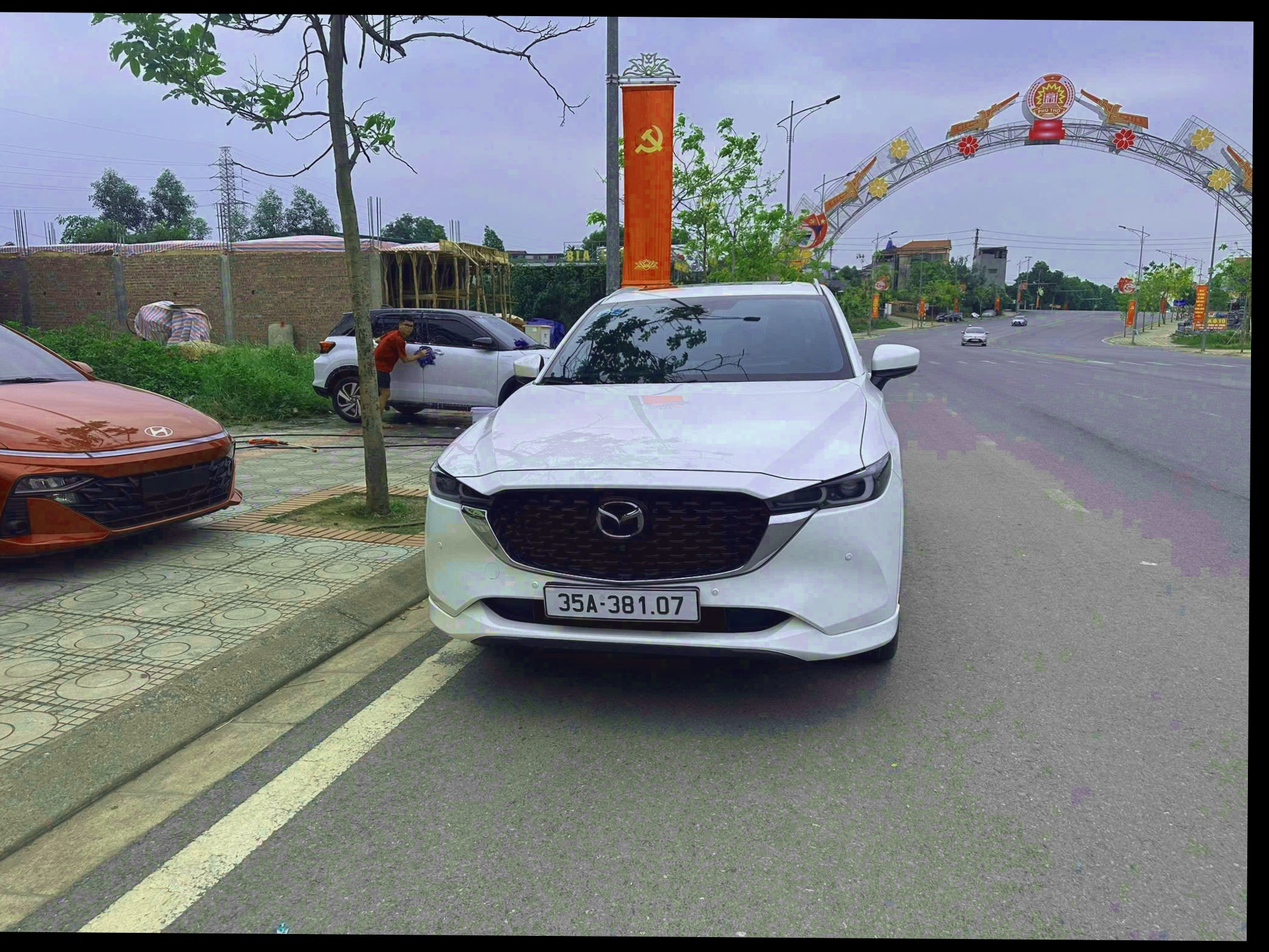Bien-so: (557, 579, 716, 627)
